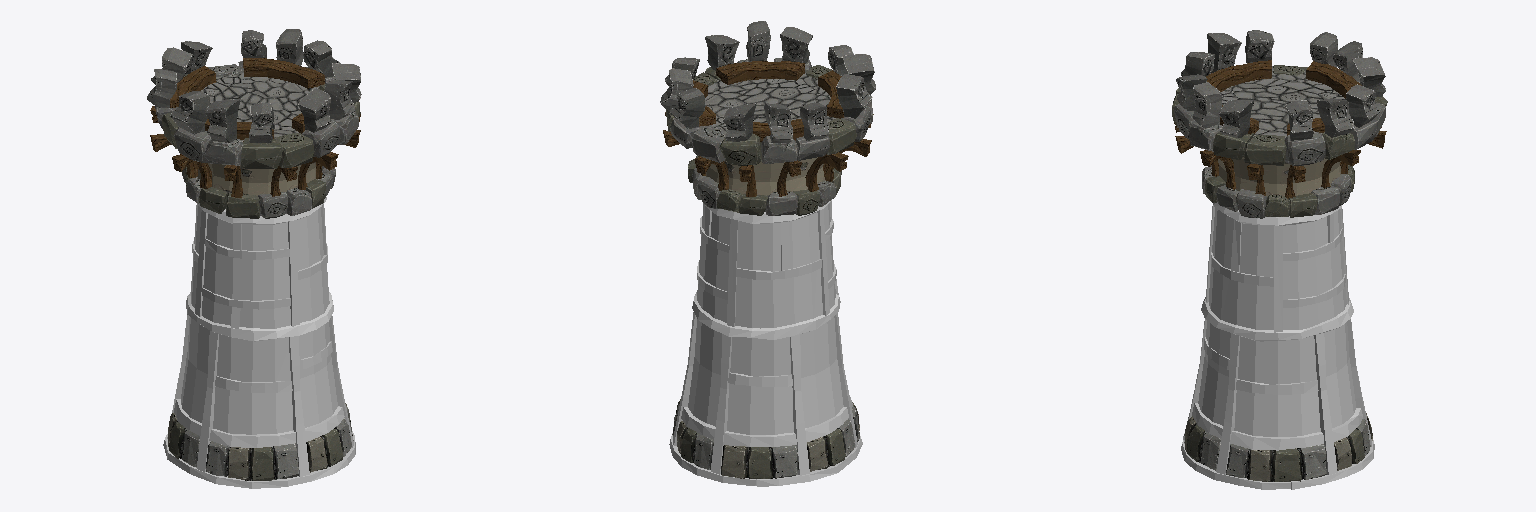
3 renders of one model, left to right at view 1: azimuth 30°, elevation 25°; view 2: azimuth 150°, elevation 25°; view 3: azimuth 270°, elevation 25°, orthographic.
Parts seen in each view (by area): view 1: node_id34, node_id44; view 2: node_id34, node_id44; view 3: node_id34, node_id44.
Boxes of the visible parts, x1=… form: node_id34: x1=163, y1=197, x2=355, y2=488; node_id44: x1=147, y1=29, x2=361, y2=218; node_id34: x1=669, y1=200, x2=862, y2=486; node_id44: x1=660, y1=21, x2=875, y2=215; node_id34: x1=1181, y1=202, x2=1374, y2=489; node_id44: x1=1172, y1=30, x2=1387, y2=218.
Bounding box in the file's own units: 0.3827 × 0.7595 × 0.3871.
Materials: 9 (7 with a texture image).